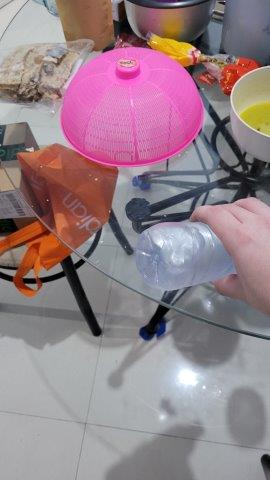botolplastik: (139, 223, 223, 285)
